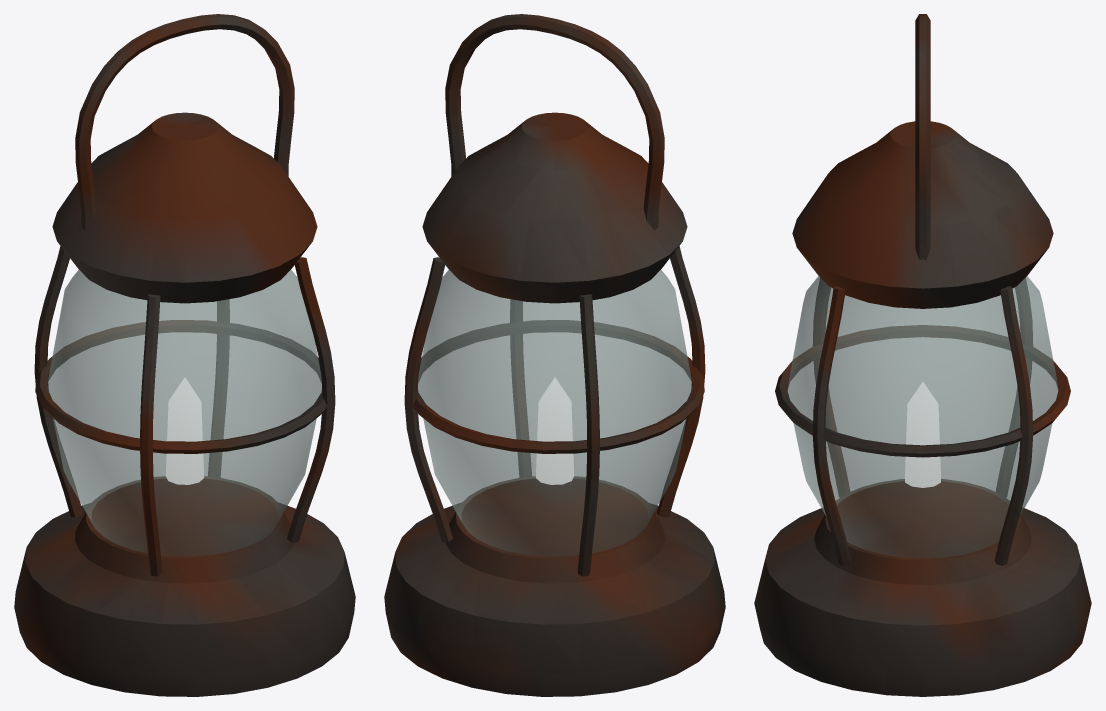
Rendered from Lantern.glb.
3 views of the same model, side by side, from view 1: azimuth 30°, elevation 25°; view 2: azimuth 150°, elevation 25°; view 3: azimuth 270°, elevation 25° (orthographic).
Visible parts, largest first — view 1: Lantern_iron, Lantern_glass, Lantern_flame; view 2: Lantern_iron, Lantern_glass, Lantern_flame; view 3: Lantern_iron, Lantern_glass, Lantern_flame.
Boxes of the visible parts, x1,y1,x2,y2 form: Lantern_iron: (14,14,355,696); Lantern_glass: (47,270,321,556); Lantern_flame: (165,377,204,484); Lantern_iron: (384,14,725,696); Lantern_glass: (418,270,692,556); Lantern_flame: (535,377,574,484); Lantern_iron: (754,14,1091,696); Lantern_glass: (787,276,1058,558); Lantern_flame: (905,382,940,487).
Size of the model in its own units: 0.62 by 1.21 by 0.62.
